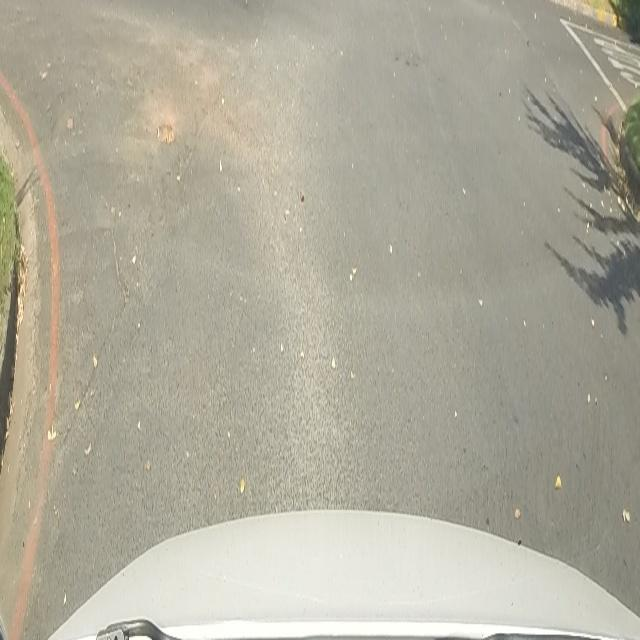pothole: (154, 117, 174, 146)
